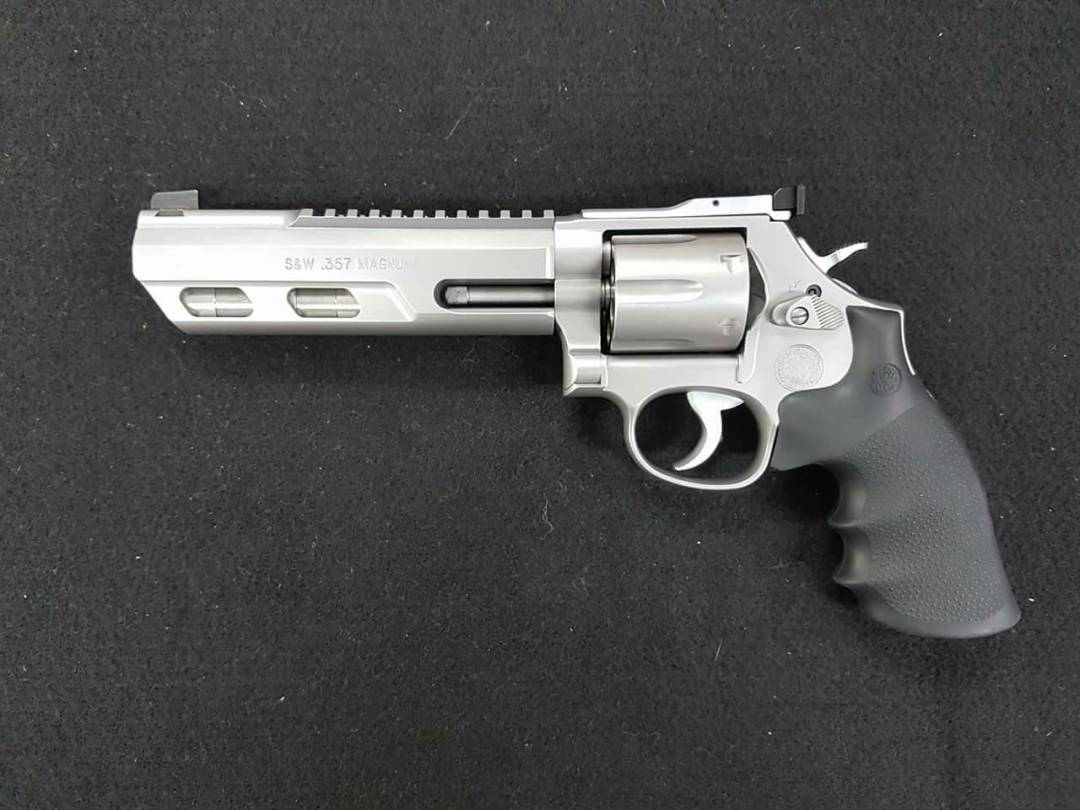gun: (112, 172, 1042, 659)
